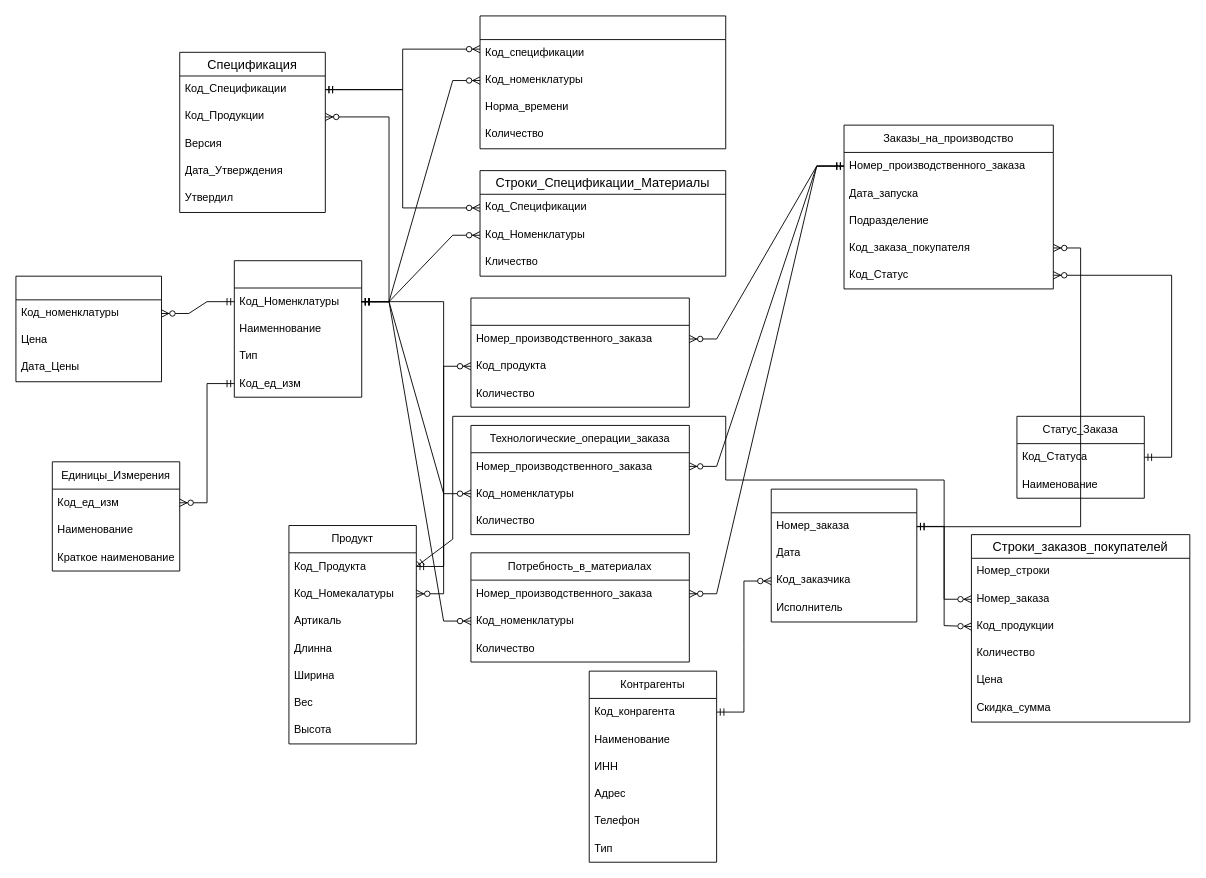
This 1206x878 diagram has some shape labels left out. The box of each missing label's shape, as (x1, y1, x2, y2) in pixels:
Заказы_покупателей: (770, 488, 917, 622)
Номенклатура: (233, 260, 362, 397)
Продукция_заказа: (470, 297, 689, 407)
Строки_Спецификации_Операции: (479, 15, 726, 149)
Цены_номенклатуры: (15, 275, 162, 382)
